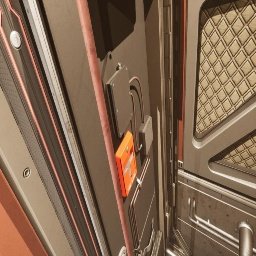FireAlarm ,: (116, 131, 137, 197)
